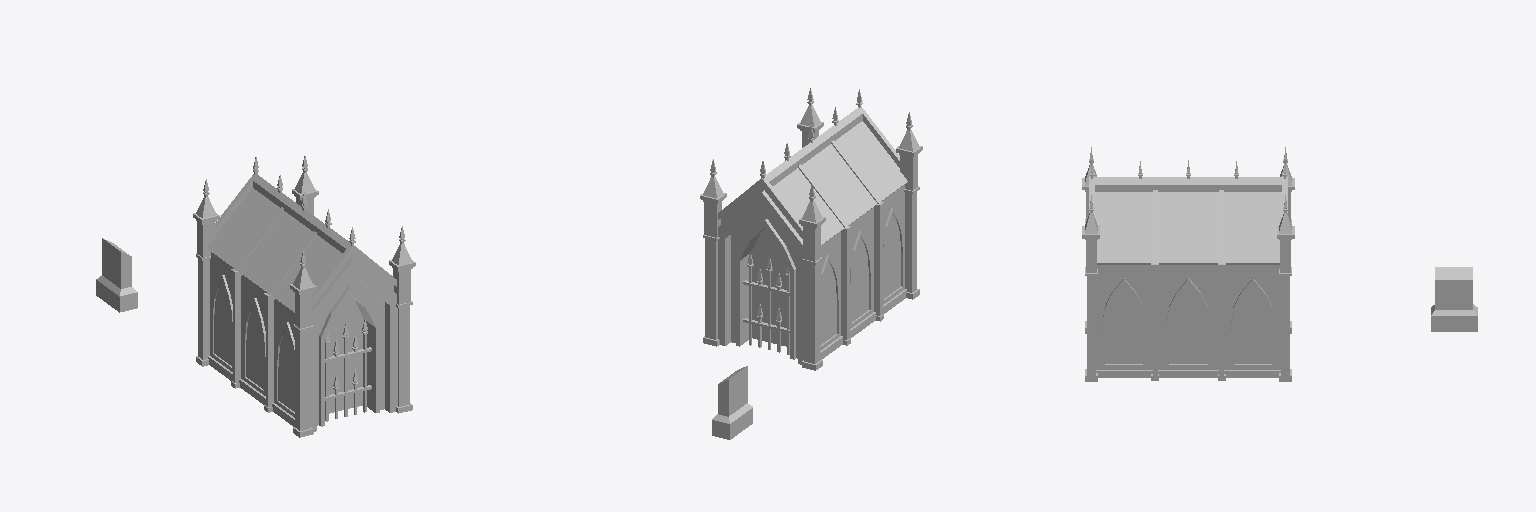
Rendered from headstone.obj.
The picture shows the model from 3 angles: view 1: azimuth 30°, elevation 25°; view 2: azimuth 150°, elevation 25°; view 3: azimuth 270°, elevation 25°; orthographic projection.
Parts seen in each view (by area): view 1: Crypt_3_Mesh.007, Headstone_3_Mesh.006; view 2: Crypt_3_Mesh.007, Headstone_3_Mesh.006; view 3: Crypt_3_Mesh.007, Headstone_3_Mesh.006.
Part boxes in pixels (x1,y1,x2,y2): Crypt_3_Mesh.007: (193,156,415,437); Headstone_3_Mesh.006: (96,238,137,312); Crypt_3_Mesh.007: (700,88,922,370); Headstone_3_Mesh.006: (712,366,752,439); Crypt_3_Mesh.007: (1082,147,1294,381); Headstone_3_Mesh.006: (1431,267,1477,331).
Size of the model in its own units: 1.66 by 2.53 by 4.66.